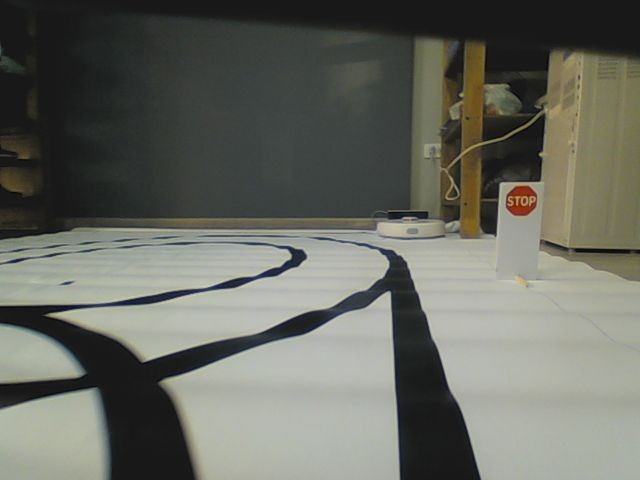Stop: (503, 186, 538, 218)
